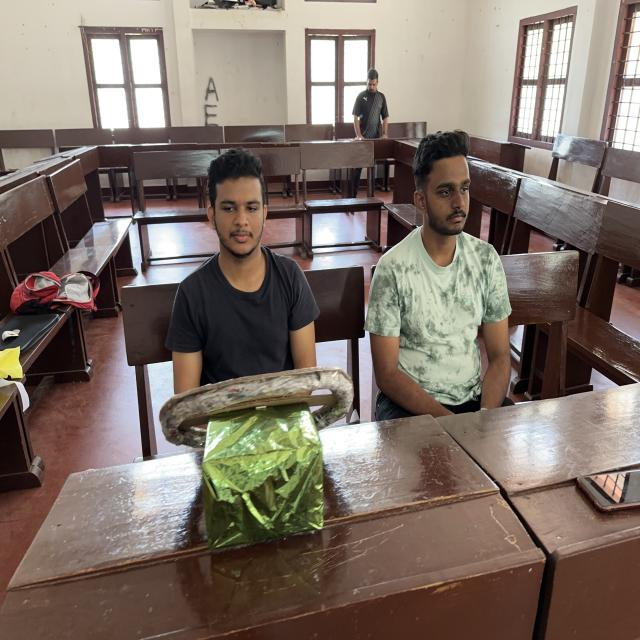no-seatbelt: (164, 251, 330, 460), (361, 234, 519, 449)
